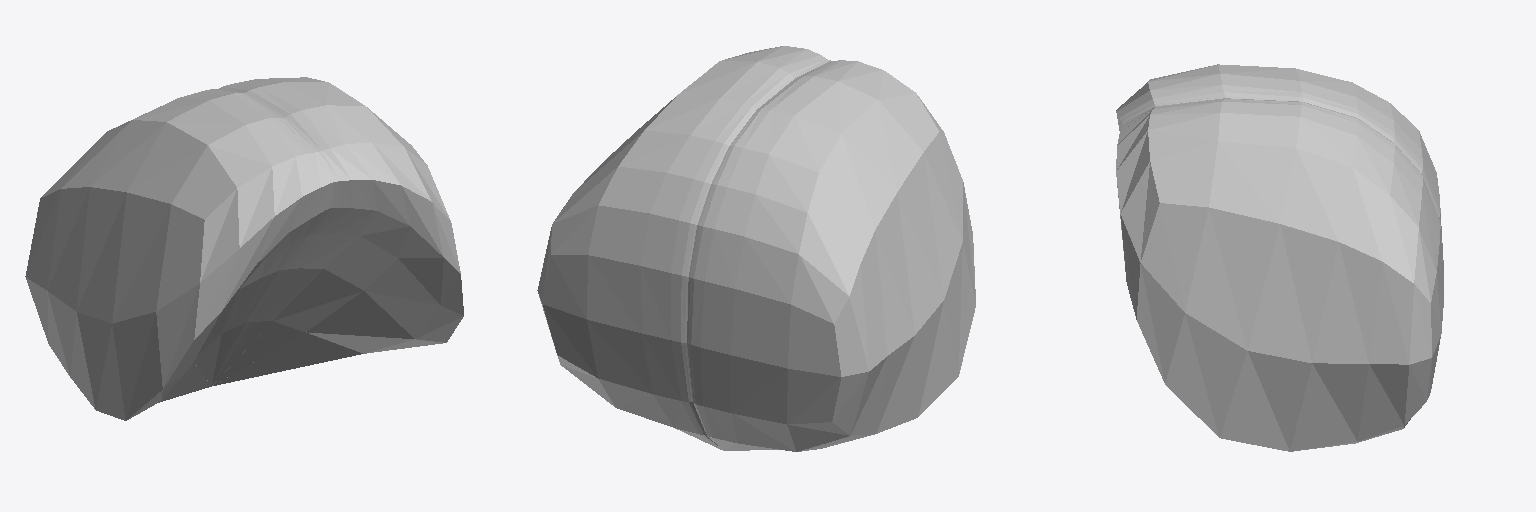
File: hair2.obj
3 views of the same model, side by side, from view 1: azimuth 30°, elevation 25°; view 2: azimuth 150°, elevation 25°; view 3: azimuth 270°, elevation 25° (orthographic).
Visible parts, largest first — view 1: WomanHair1_Cube.005; view 2: WomanHair1_Cube.005; view 3: WomanHair1_Cube.005.
Boxes of the visible parts, x1=… form: WomanHair1_Cube.005: x1=25, y1=77, x2=463, y2=420; WomanHair1_Cube.005: x1=537, y1=46, x2=975, y2=451; WomanHair1_Cube.005: x1=1116, y1=64, x2=1443, y2=451.
Size of the model in its own units: 2.43 by 2.27 by 2.08.